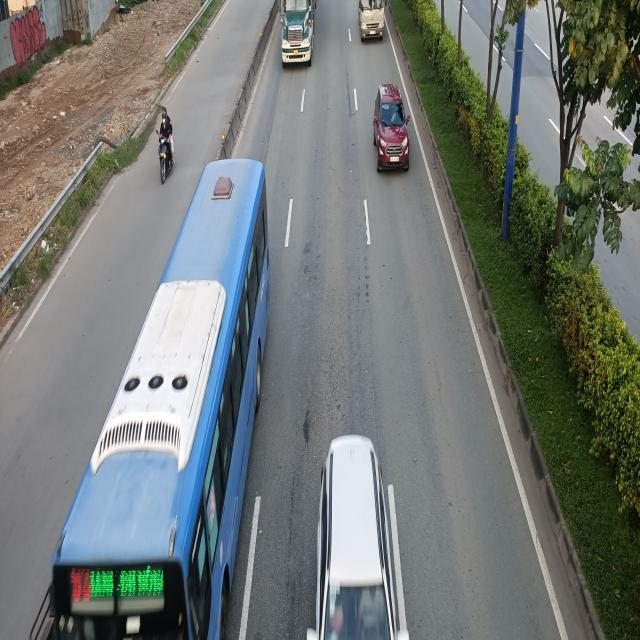car: (372, 83, 409, 174)
coach: (50, 161, 270, 638), (356, 0, 386, 42)
container: (278, 0, 317, 66)
